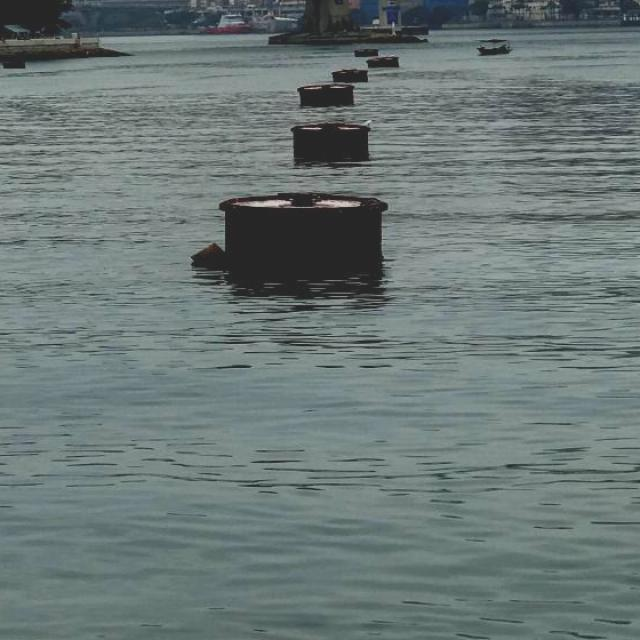ship: (473, 36, 517, 59)
